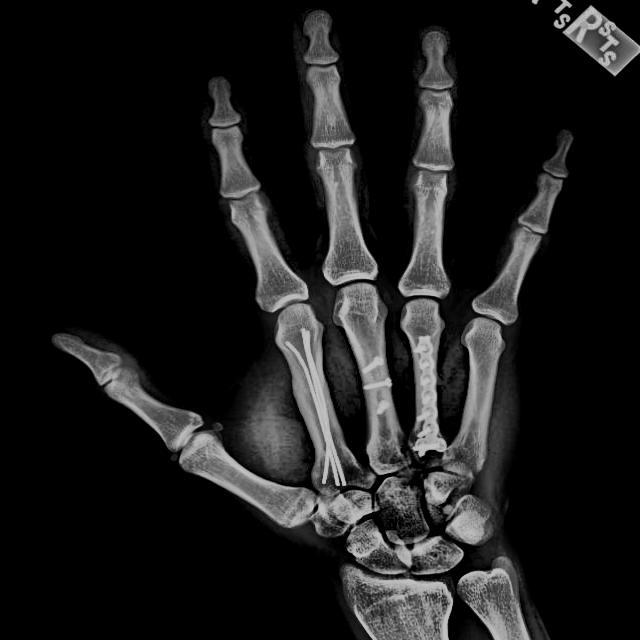fracture: (282, 324, 349, 493), (412, 330, 451, 460), (358, 351, 397, 419)
